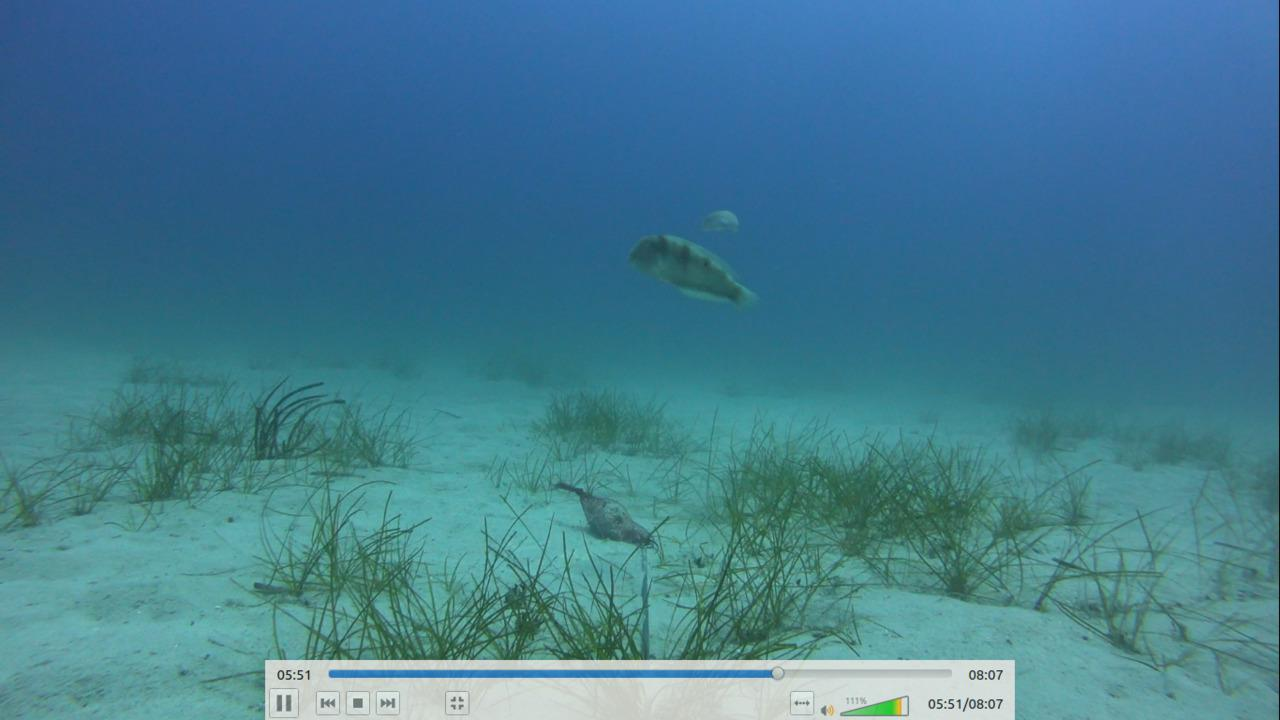raor: (624, 229, 764, 318), (695, 211, 745, 232)
